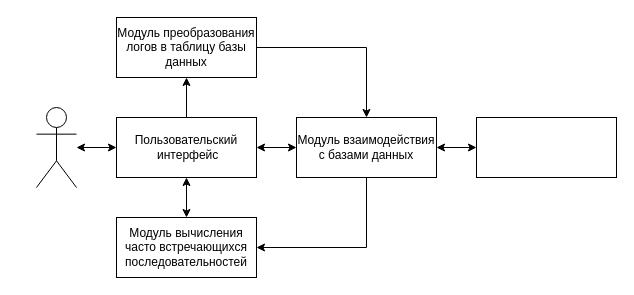
Some shapes in this 634 by 295 pixel diagram are drawn without their labels. The shapes that lost their labels are listed below. From the top down, each one's centre as x and y in pixels, then its label:
At point 56,147: "Пользователь".
At point 546,147: "Базы данных".
